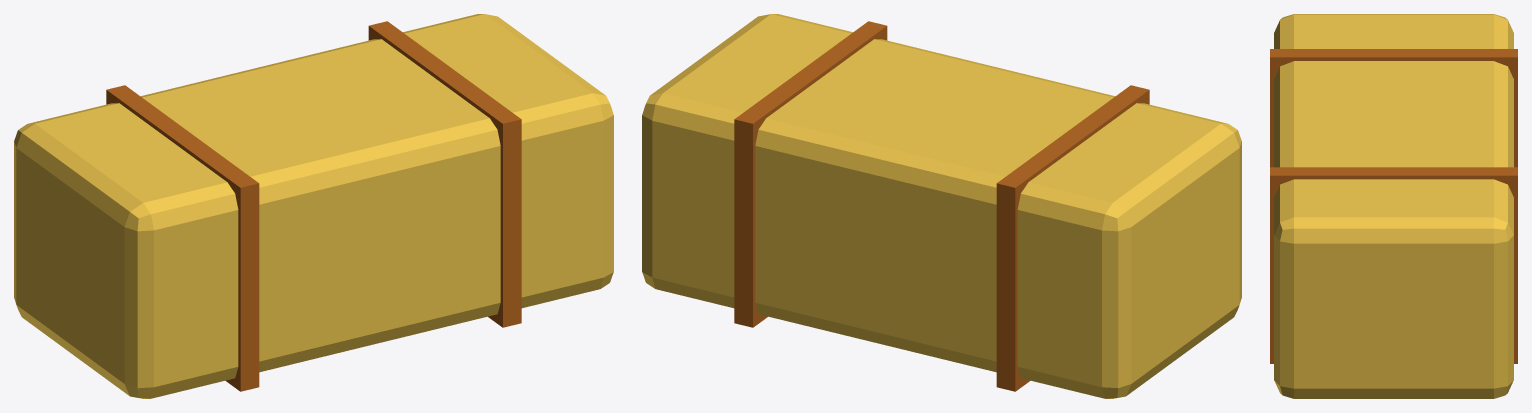
Rendered from haysq.glb.
The picture shows the model from 3 angles, left to right: view 1: azimuth 30°, elevation 25°; view 2: azimuth 150°, elevation 25°; view 3: azimuth 270°, elevation 25°; orthographic projection. The views are drawn at different scales.
Parts seen in each view (by area): view 1: HaySq; view 2: HaySq; view 3: HaySq.
Part boxes in pixels (x1,y1,x2,y2): HaySq: [14, 14, 613, 398]; HaySq: [642, 14, 1241, 398]; HaySq: [1270, 14, 1517, 398].
Size of the model in its own units: 1.3 by 0.52 by 0.62.
